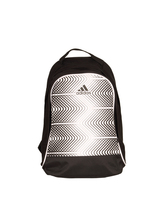bag: (34, 49, 134, 178)
